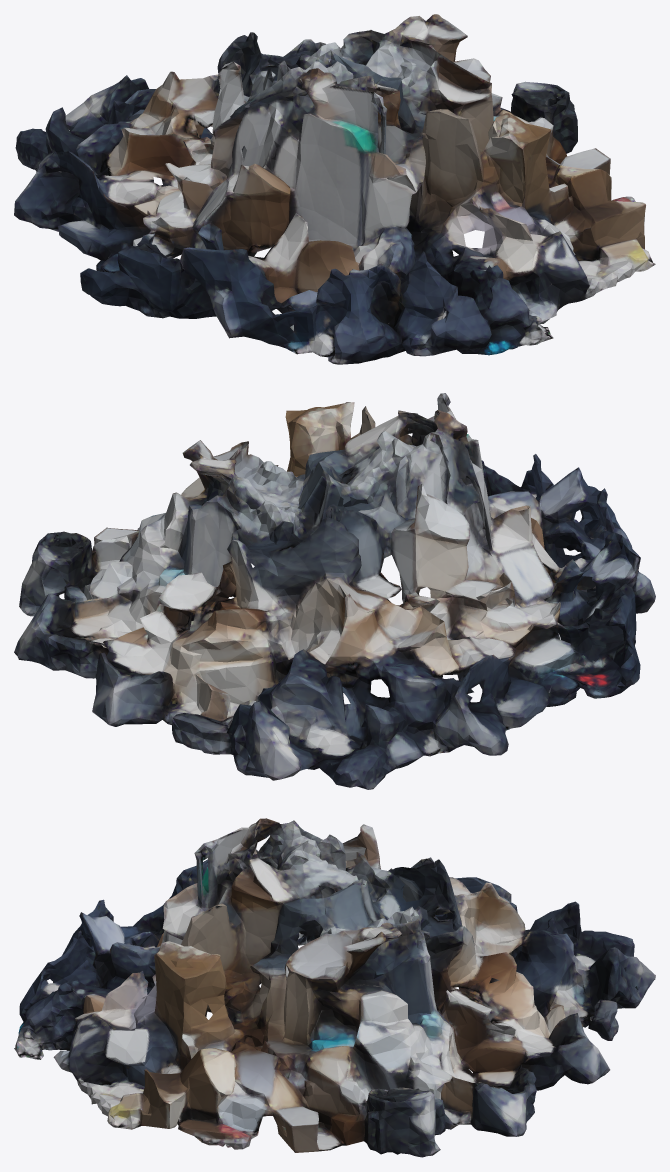
File: Garbage_1.fbx
The picture shows the model from 3 angles, top to bottom: view 1: azimuth 30°, elevation 25°; view 2: azimuth 150°, elevation 25°; view 3: azimuth 270°, elevation 25°; orthographic projection. The views are drawn at different scales.
Parts seen in each view (by area): view 1: world.004; view 2: world.004; view 3: world.004.
Part boxes in pixels (x1,y1,x2,y2): world.004: (14,14,655,364); world.004: (14,393,655,789); world.004: (14,818,655,1157).
Size of the model in its own units: 87.72 by 32.63 by 96.79.
